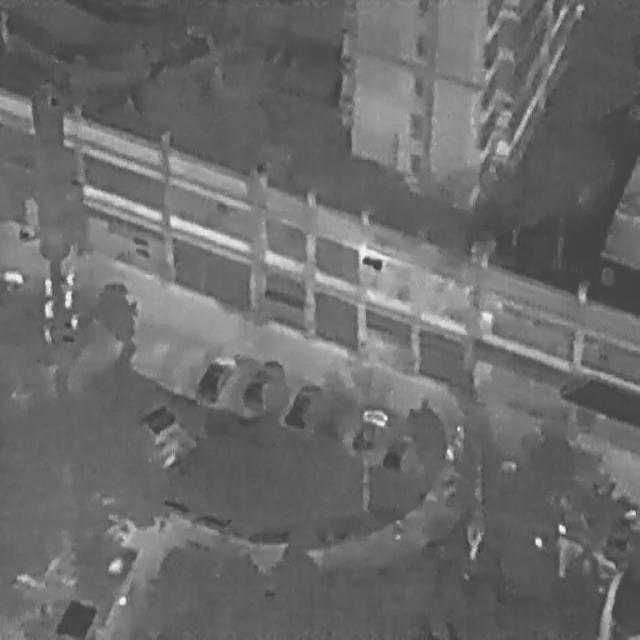Car: (189, 342, 240, 412), (238, 347, 287, 418), (279, 369, 327, 440), (346, 398, 390, 462), (378, 421, 419, 480)
